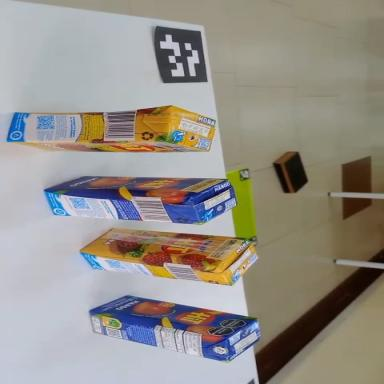HIT-MANGO: (85, 288, 262, 367), (43, 174, 237, 225)
HIT-MORA: (1, 104, 216, 157), (79, 226, 258, 287)
cara_F: (88, 288, 258, 343), (80, 225, 246, 270), (42, 175, 228, 199), (10, 141, 208, 152)
